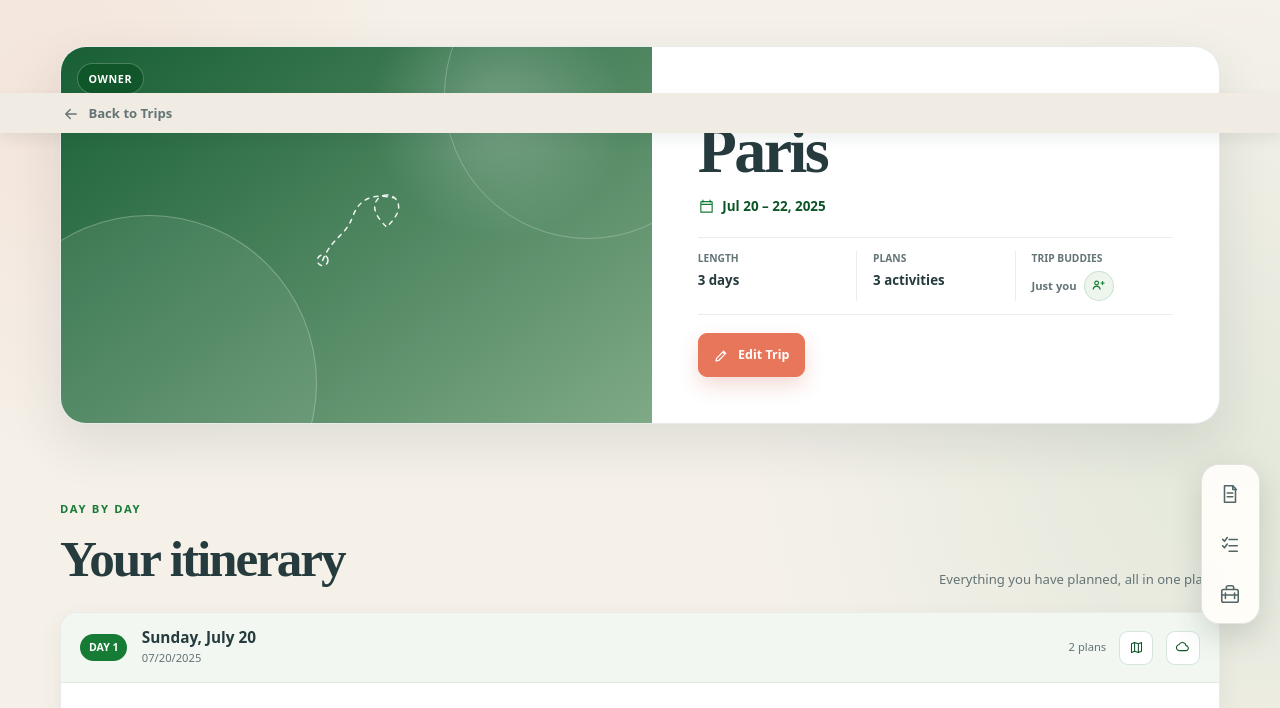
Test: TripDetail › passes correct trip data to TripForm when editing
The image size is (1280, 708).
Expected: the text "Edit Trip" is shown, top-left (738, 346), bottom-right (789, 364)
Step 1. Click the button "Edit Trip" → (751, 355), box top-left (698, 333), bottom-right (805, 377)
(page scrolled)
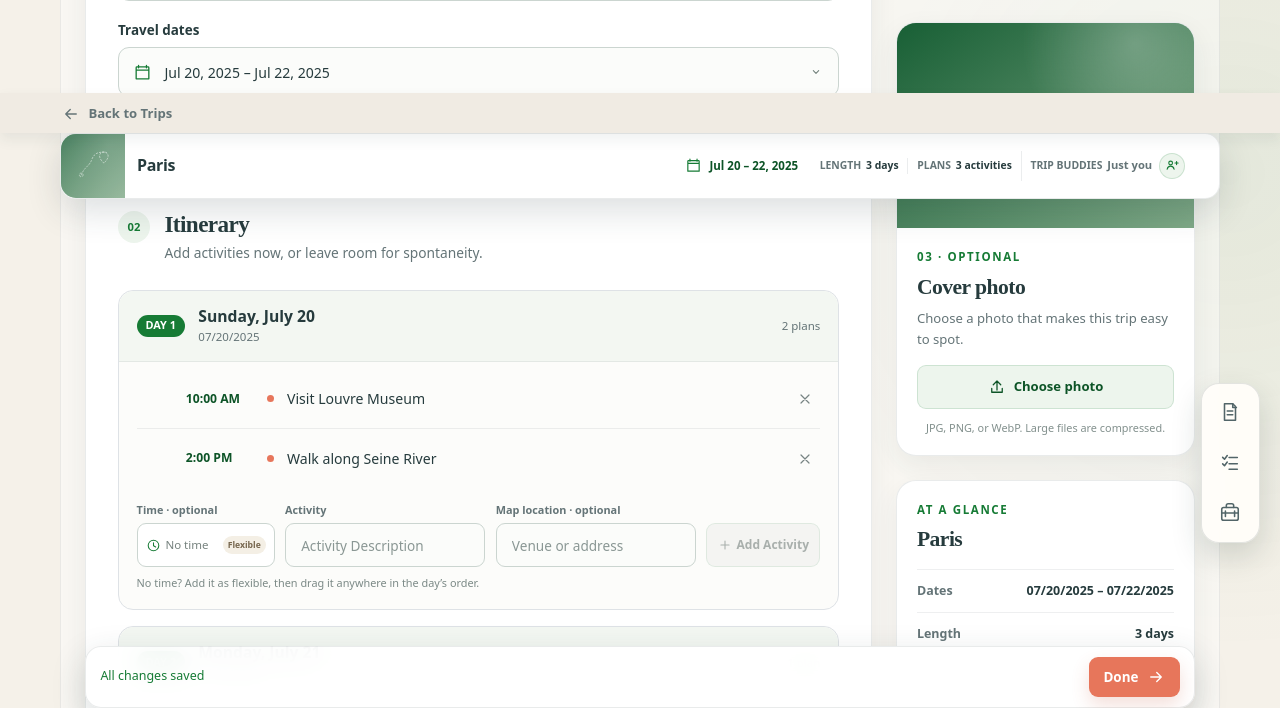
Now the button named "Travel dates" shows "Jul 20, 2025", box top-left (118, 47), bottom-right (839, 97)
Now the button named "Travel dates" shows "Jul 22, 2025", box top-left (118, 47), bottom-right (839, 97)
